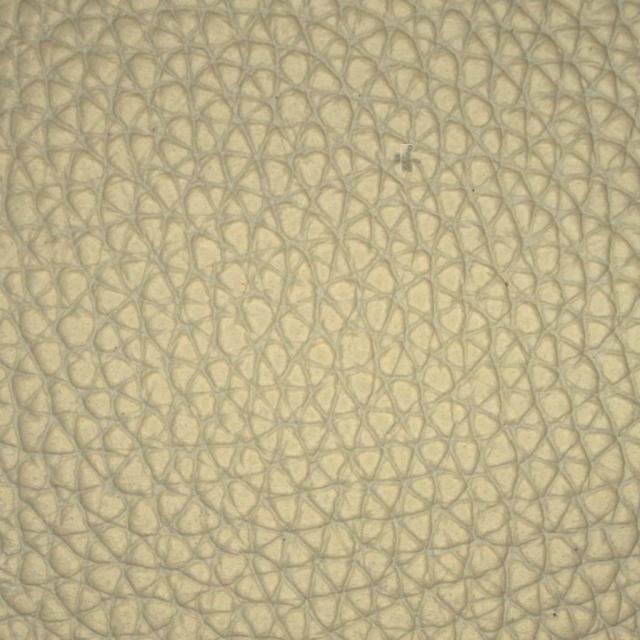Scratch: (362, 73, 464, 248)
